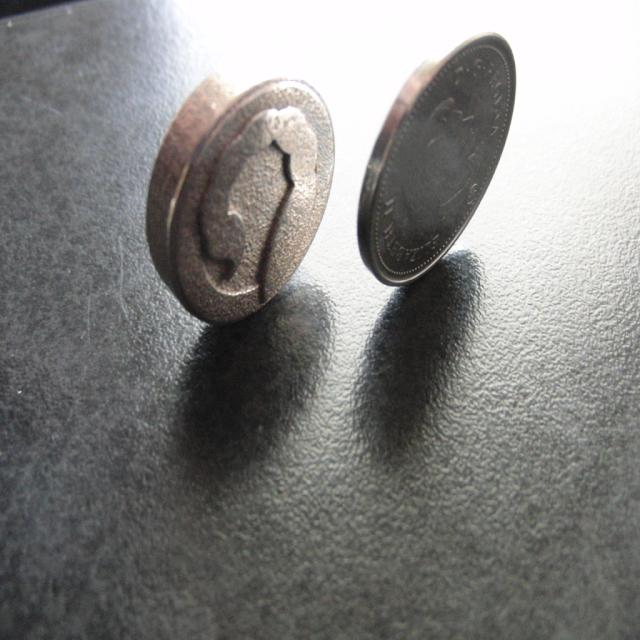Coin: (143, 52, 337, 323), (356, 23, 516, 286)
